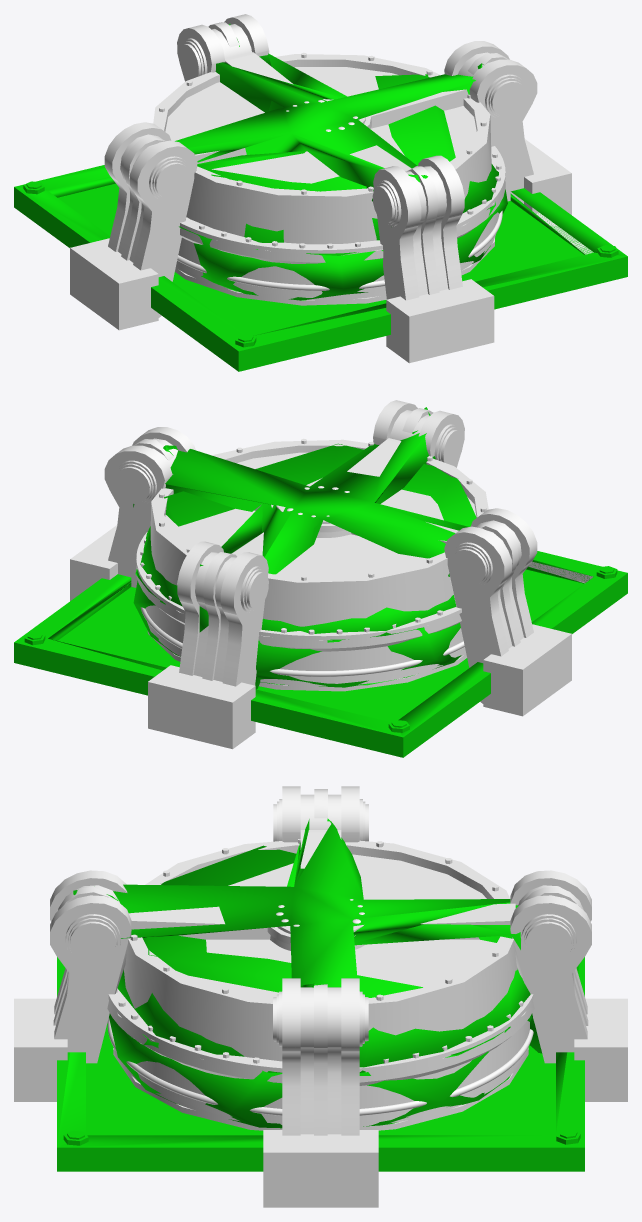
The model's file is Vault_AR_Ready.fbx.
3 renders of one model, top to bottom at view 1: azimuth 30°, elevation 25°; view 2: azimuth 150°, elevation 25°; view 3: azimuth 270°, elevation 25°, orthographic. The views are drawn at different scales.
Visible parts, largest first — view 1: Object_01, Object_02, UTM_Object_07, UTM_Object_01, UTM_Object_02; view 2: Object_01, Object_02, UTM_Object_07, UTM_Object_01, UTM_Object_02; view 3: Object_01, Object_02, UTM_Object_07, UTM_Object_02, UTM_Object_01.
Boxes of the visible parts, x1,y1,x2,y2 form: Object_01: [70, 14, 571, 363]; Object_02: [153, 52, 505, 305]; UTM_Object_07: [14, 165, 627, 371]; UTM_Object_01: [175, 24, 483, 201]; UTM_Object_02: [179, 74, 507, 300]; Object_01: [70, 400, 571, 749]; Object_02: [136, 438, 488, 691]; UTM_Object_07: [14, 551, 627, 757]; UTM_Object_01: [133, 407, 468, 689]; UTM_Object_02: [133, 443, 476, 687]; Object_01: [14, 786, 627, 1207]; Object_02: [107, 839, 534, 1130]; UTM_Object_07: [57, 957, 584, 1171]; UTM_Object_02: [109, 845, 531, 1128]; UTM_Object_01: [73, 818, 542, 1053].
Size of the model in its own units: 1540 by 554 by 1540.
